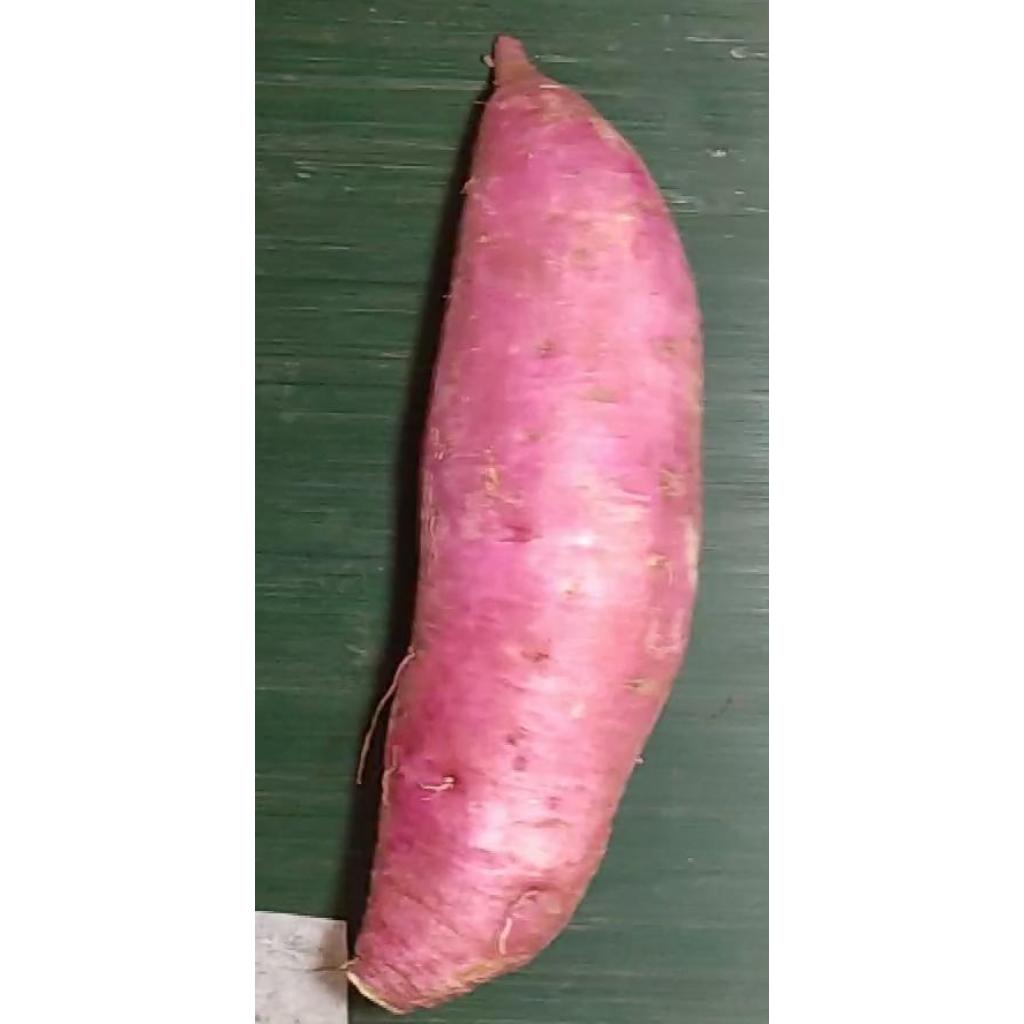Sweet Potato: (348, 35, 706, 1017)
